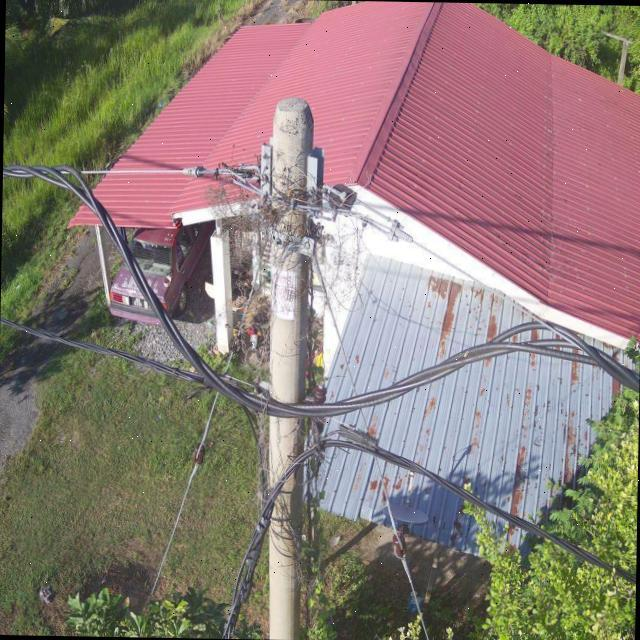critical vegetation: (194, 147, 346, 634)
